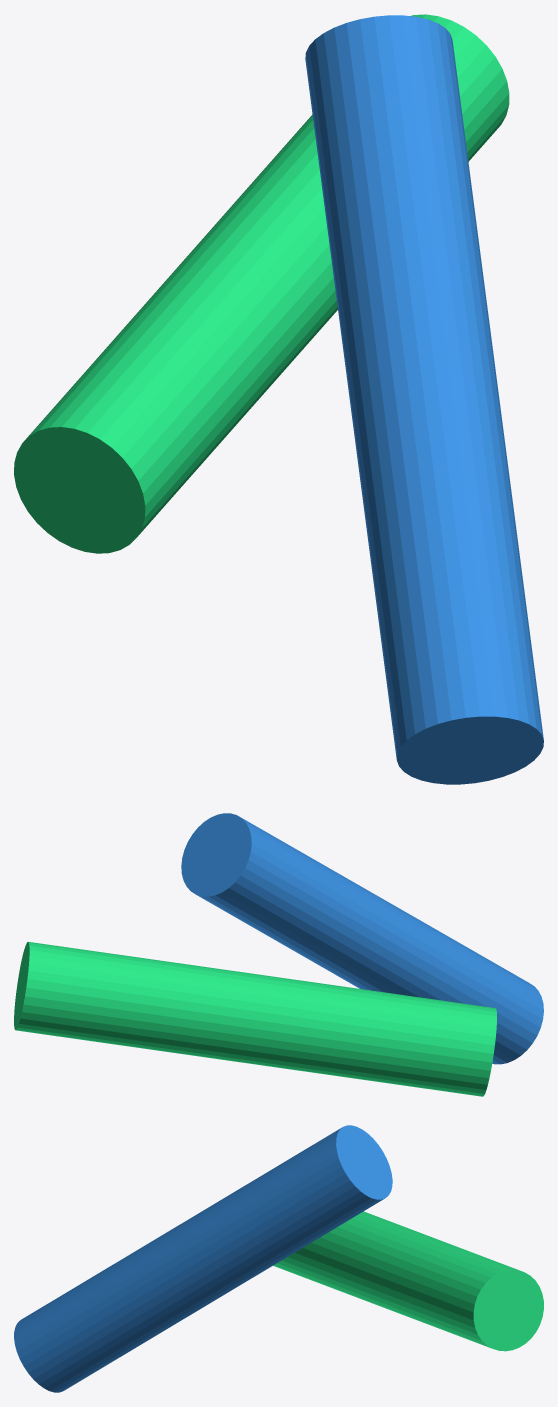
The model's file is chalk.fbx.
3 renders of one model, top to bottom at view 1: azimuth 30°, elevation 25°; view 2: azimuth 150°, elevation 25°; view 3: azimuth 270°, elevation 25°, orthographic. The views are drawn at different scales.
Parts seen in each view (by area): view 1: Cylinder, Cylinder.001; view 2: Cylinder.001, Cylinder; view 3: Cylinder, Cylinder.001.
Boxes of the visible parts, x1,y1,x2,y2 form: Cylinder: (305, 15, 543, 784); Cylinder.001: (14, 14, 509, 553); Cylinder.001: (14, 941, 496, 1096); Cylinder: (181, 813, 543, 1064); Cylinder: (14, 1125, 392, 1392); Cylinder.001: (273, 1211, 543, 1351).
Size of the model in its own units: 106 by 86.79 by 136.
